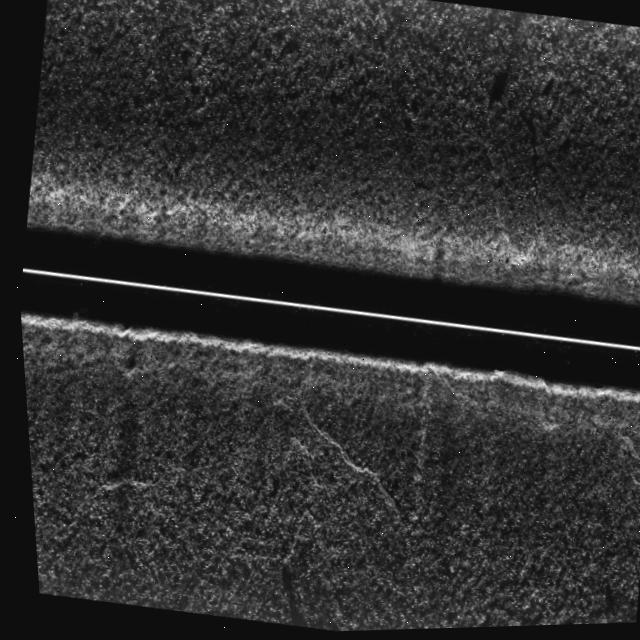other: (108, 361, 136, 385)
